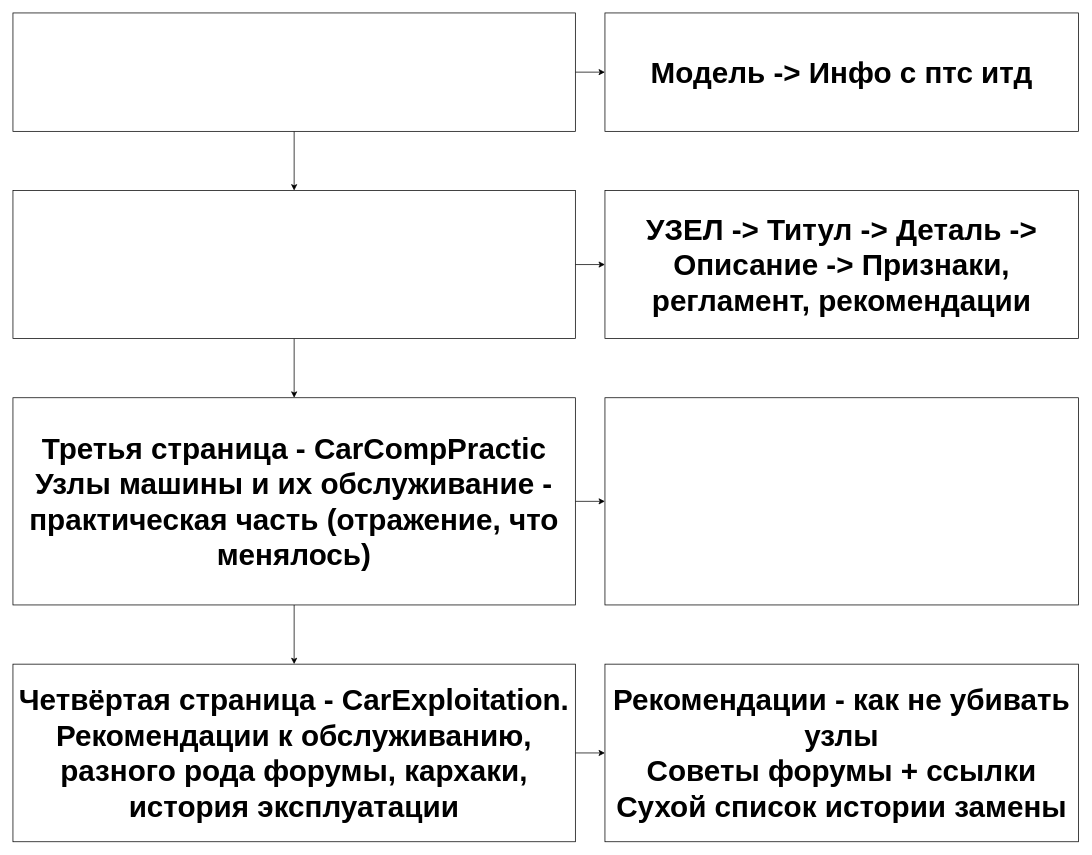
The diagram is 1092 pixels wide and 855 high, and some of its shapes have lost their labels. Here are the shapes that lost their labels. From the top down, the centre of each, then its label:
At pixel 293 71: "Первая страница - CarInfo. ТТХ Машины".
At pixel 293 264: "Вторая страница - CarComponentsTheory. Узлы машины и их обслуживание - теория".
At pixel 841 501: "УЗЕЛ -> Титул -> Деталь -> Киллометраж -> Замена/чистка".
